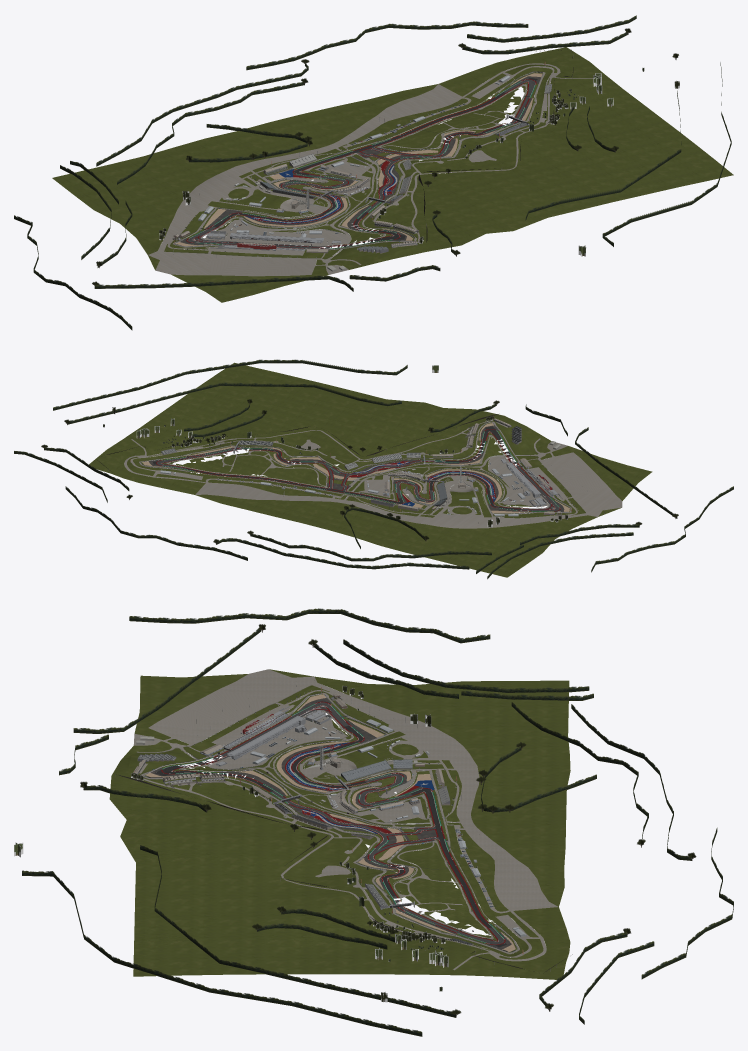
File: austin-high.glb
3 views of the same model, one above another, from view 1: azimuth 30°, elevation 25°; view 2: azimuth 150°, elevation 25°; view 3: azimuth 270°, elevation 25° (orthographic). The views are drawn at different scales.
Visible parts, largest first — view 1: austin; view 2: austin; view 3: austin.
Part boxes in pixels (bbox=[...]): austin: bbox=[14, 15, 733, 330]; austin: bbox=[14, 359, 733, 579]; austin: bbox=[14, 608, 733, 1036].
Size of the model in its own units: 375 by 12.49 by 262.
88 materials, 87 textured.
